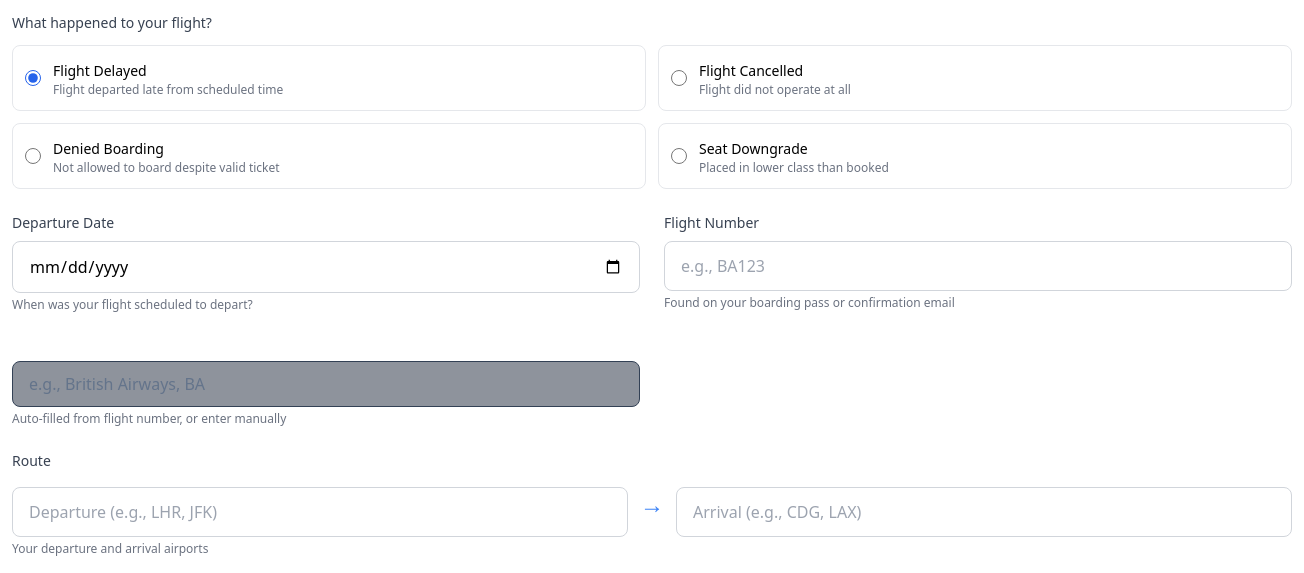
it: FlightLookupForm - Conditional Rendering › cancellation-specific fields › should show cancellation fields when cancellation is selected
The width and height of the screenshot is (1304, 573).
Click the radio button labelled "Flight Cancelled Flight did not operate at all" at x=679, y=78, box left=671, top=70, right=687, bottom=86
(page scrolled)
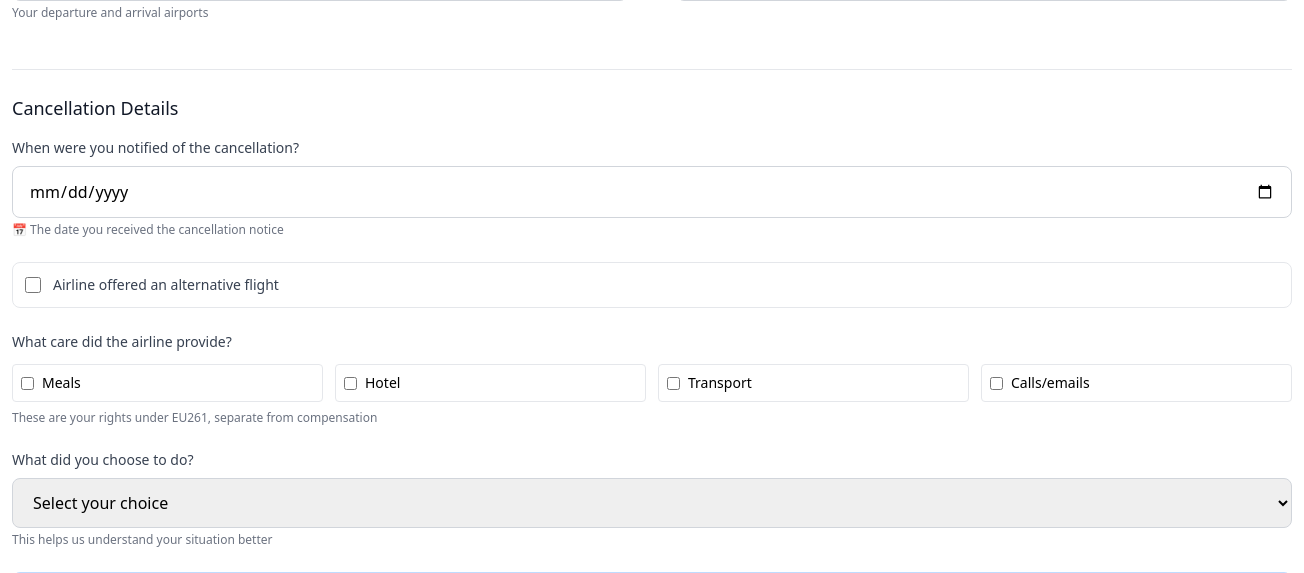
Result: the text "When were you notified of the cancellation?" is shown at left=12, top=138, right=299, bottom=157
Result: the text "Airline offered an alternative flight" is shown at left=53, top=275, right=279, bottom=295
